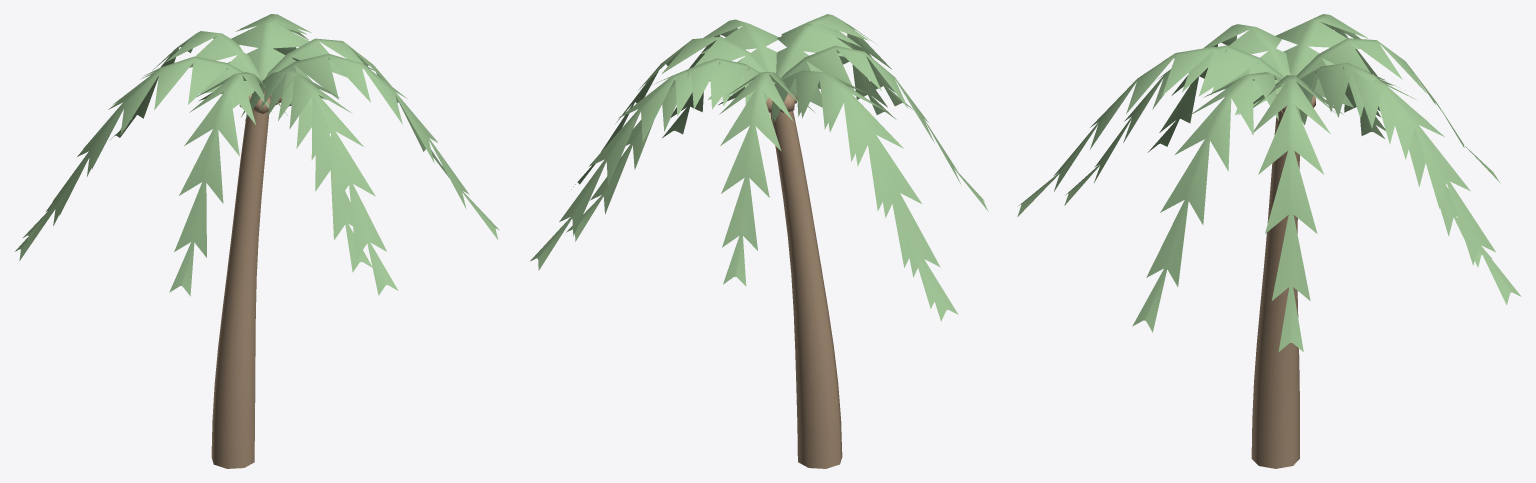
File: gasing_palm.glb
The picture shows the model from 3 angles, left to right: view 1: azimuth 30°, elevation 25°; view 2: azimuth 150°, elevation 25°; view 3: azimuth 270°, elevation 25°; orthographic projection. The views are drawn at different scales.
Visible parts, largest first — view 1: Palm; view 2: Palm; view 3: Palm.
Part boxes in pixels (box(x1,y1,x2,y2)): Palm: box(15, 14, 499, 468); Palm: box(530, 14, 988, 468); Palm: box(1017, 14, 1521, 468).
Bounding box in the file's own units: 4 × 3.72 × 3.96.
